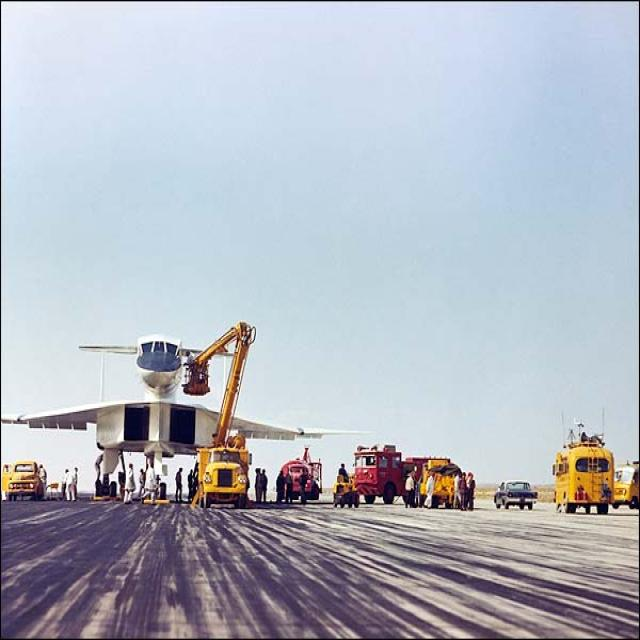MIL_Plane: (1, 332, 377, 501)
